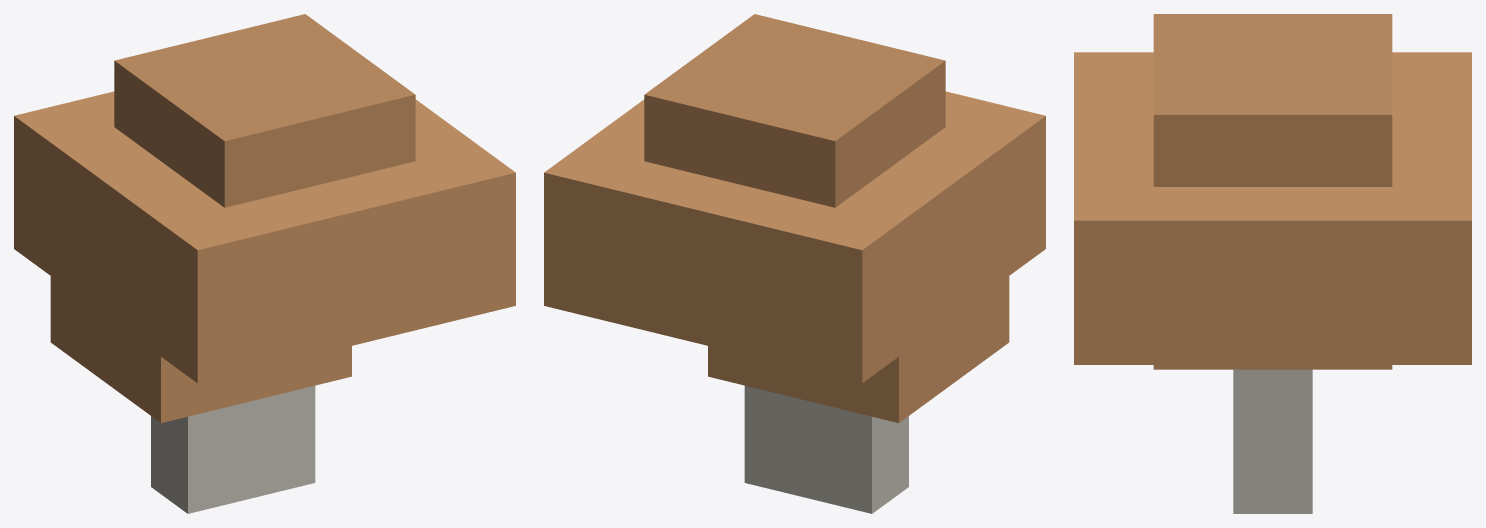
Rendered from niscalo_03.glb.
The picture shows the model from 3 angles, left to right: view 1: azimuth 30°, elevation 25°; view 2: azimuth 150°, elevation 25°; view 3: azimuth 270°, elevation 25°; orthographic projection. The views are drawn at different scales.
Visible parts, largest first — view 1: niscalo_03; view 2: niscalo_03; view 3: niscalo_03.
Boxes of the visible parts, x1,y1,x2,y2 form: niscalo_03: [14, 14, 515, 513]; niscalo_03: [544, 14, 1045, 513]; niscalo_03: [1074, 14, 1471, 513].
Bounding box in the file's own units: 0.5 × 0.6 × 0.5.
